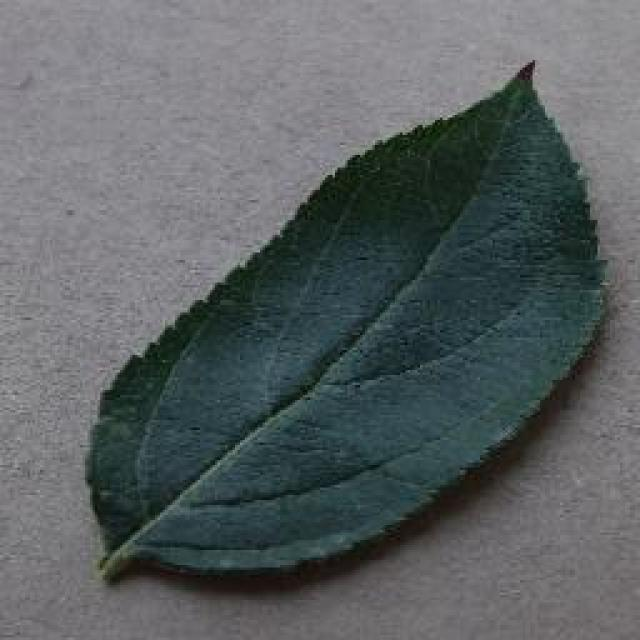apple healthy: (82, 55, 610, 585)
